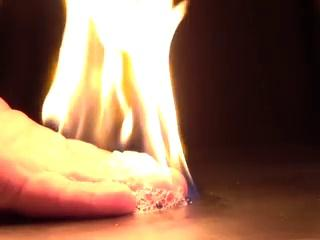Fire: (39, 1, 191, 205)
